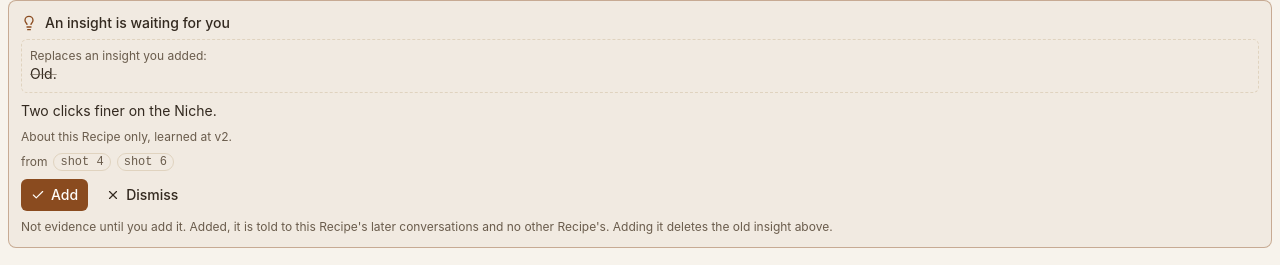
ChatInsightCard › what it rests on and what it replaces › adds a replacement with one press and sends it the conversation to refresh
Click the button "Add".
click(55, 195)  # box [21,179,88,211]
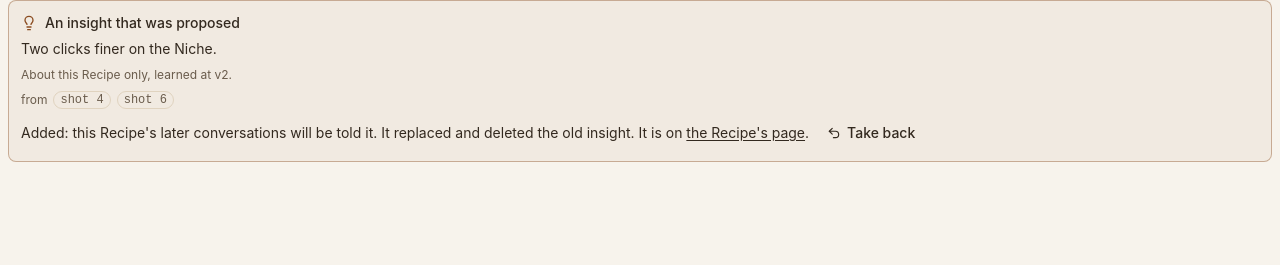
Result: the element with test id "chat-insight-decided" shows "replaced and deleted the old insight" at [381,124,638,141]
